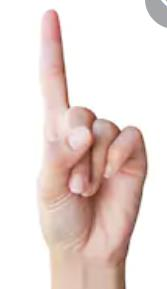up: (32, 5, 150, 257)
